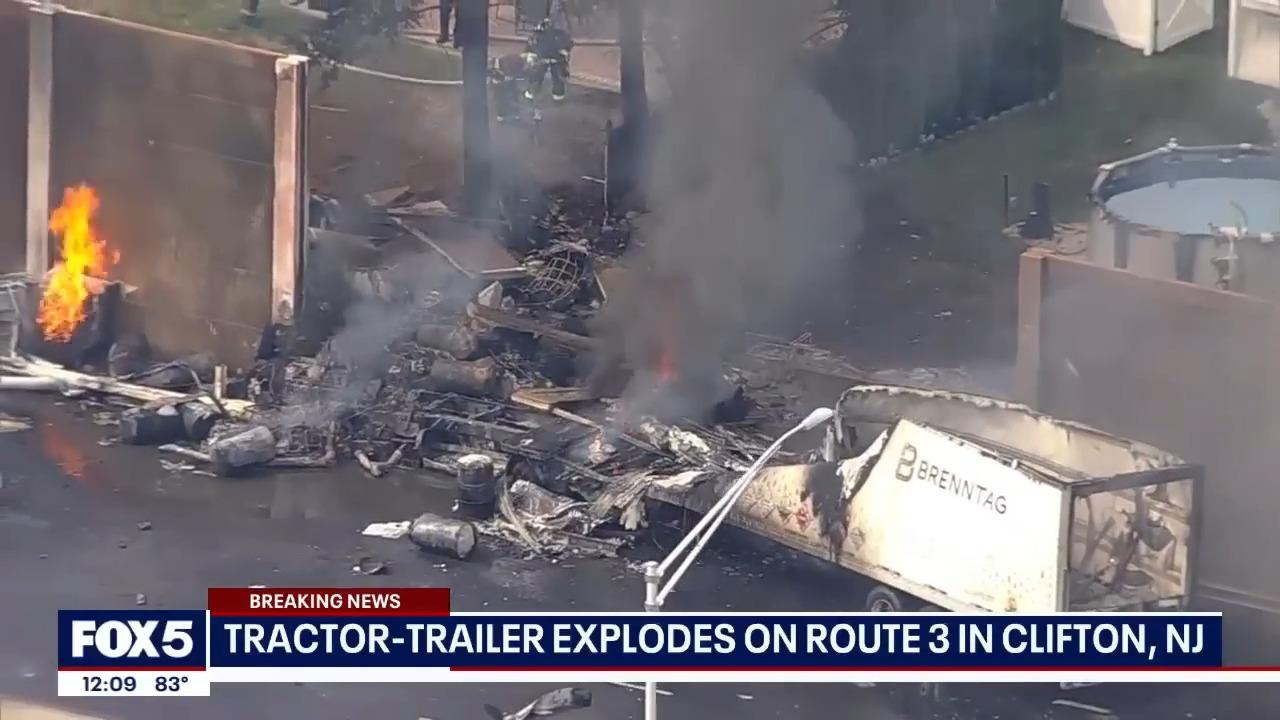fire: (30, 169, 123, 343)
